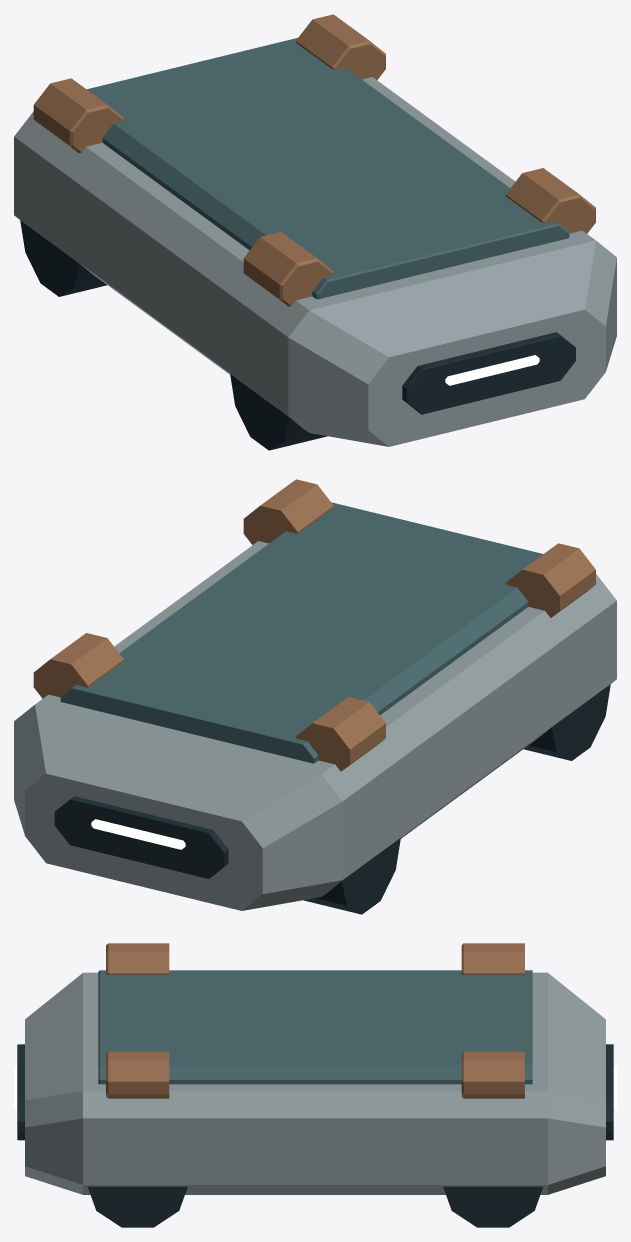
File: SF-03_deck_shuttle.glb
The picture shows the model from 3 angles, top to bottom: view 1: azimuth 30°, elevation 25°; view 2: azimuth 150°, elevation 25°; view 3: azimuth 270°, elevation 25°; orthographic projection. The views are drawn at different scales.
Visible parts, largest first — view 1: SF-03_deck_shuttle; view 2: SF-03_deck_shuttle; view 3: SF-03_deck_shuttle.
Part boxes in pixels (left/top/right/bottom): SF-03_deck_shuttle: left=14, top=14, right=616, bottom=450; SF-03_deck_shuttle: left=14, top=479, right=616, bottom=914; SF-03_deck_shuttle: left=14, top=943, right=616, bottom=1227.
Bounding box in the file's own units: 1.88 × 1.03 × 3.53.
